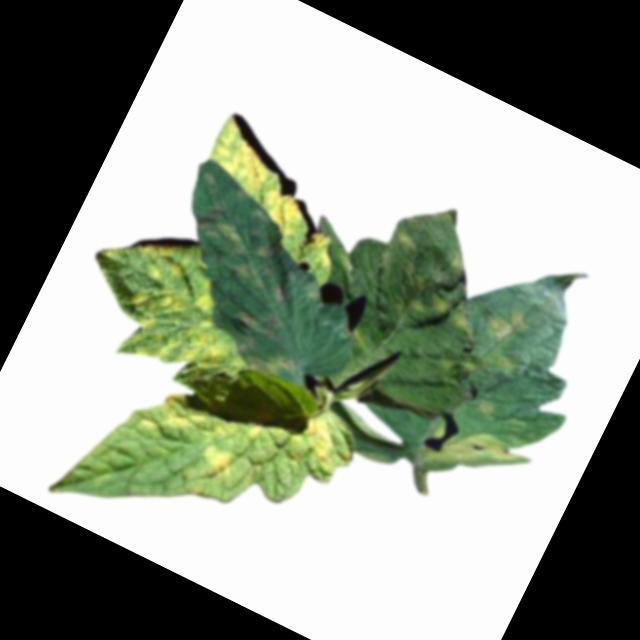Leaf_Mold: (60, 212, 260, 397), (188, 112, 373, 267), (163, 170, 322, 309), (418, 408, 533, 504), (218, 301, 311, 386), (403, 271, 489, 344), (289, 409, 359, 478), (182, 438, 249, 509), (480, 294, 537, 351), (155, 387, 213, 438), (384, 216, 426, 259), (242, 420, 265, 446)
